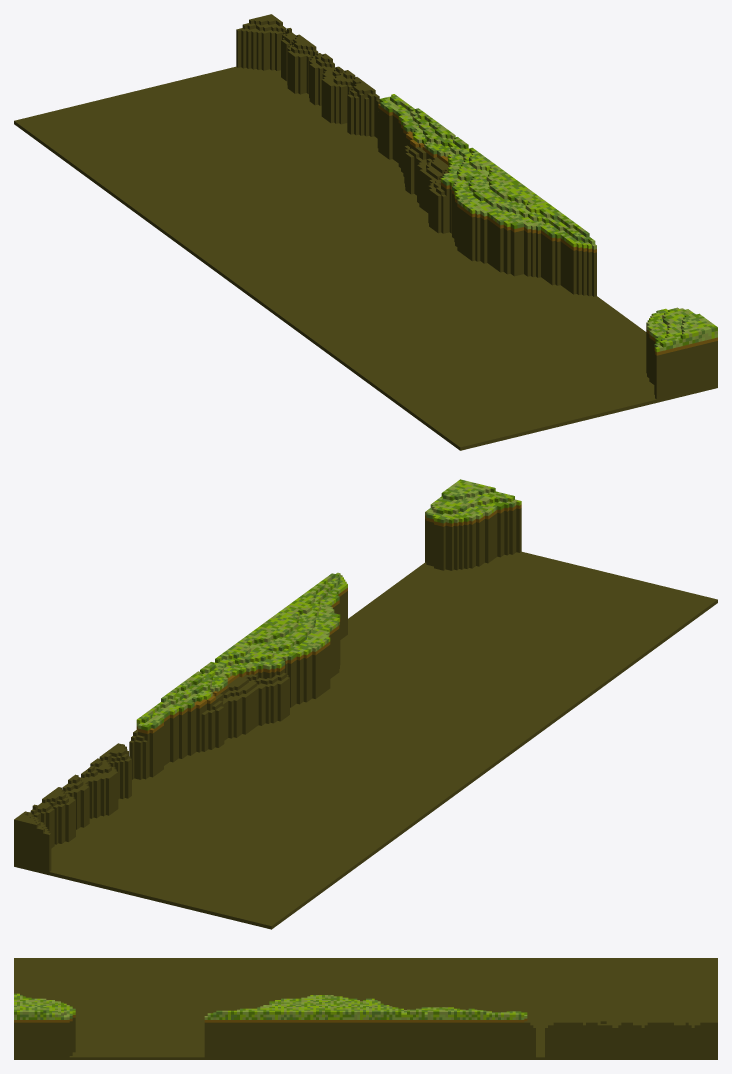
File: Tab B5-0.obj
The picture shows the model from 3 angles, top to bottom: view 1: azimuth 30°, elevation 25°; view 2: azimuth 150°, elevation 25°; view 3: azimuth 270°, elevation 25°; orthographic projection. The views are drawn at different scales.
Bounding box in the file's own units: 8 × 1.8 × 24.
Materials: 1 (1 with a texture image).
